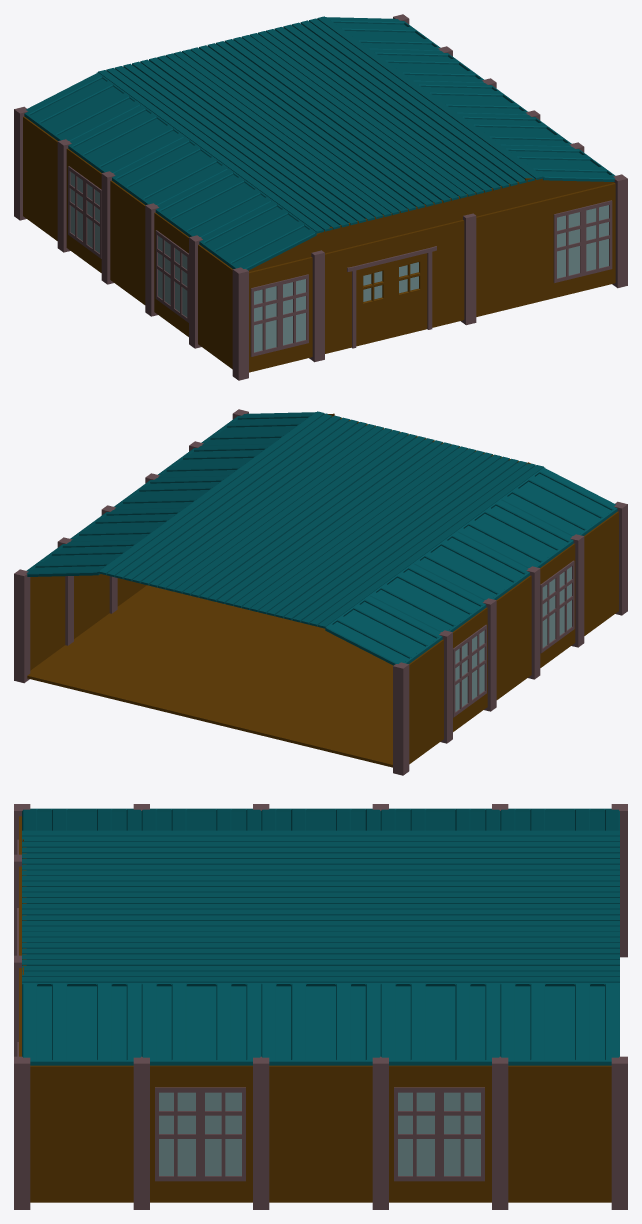
Rendered from Env_SherrifOffice.fbx.
3 renders of one model, top to bottom at view 1: azimuth 30°, elevation 25°; view 2: azimuth 150°, elevation 25°; view 3: azimuth 270°, elevation 25°, orthographic. The views are drawn at different scales.
Parts seen in each view (by area): view 1: Wall_Doorframe_Master_Copy2, Wall_Standard_Master_Copy17, pCube430, pCube427, pCube424, pCube425, pCube423, pCube426, pCube602, pCube601, Wall_Standard_Master_Copy22, Wall_Standard_Master_Copy21 (+25 smaller); view 2: pCube431, pCube423, pCube425, pCube426, pCube427, pCube424, Wall_Standard_Master_Copy22, Wall_Standard_Master_Copy23, Wall_Standard_Master_Copy21, Wall_Standard_Master_Copy20, pCube422, pCube19 (+16 smaller); view 3: Wall_Standard_Master_Copy18, Wall_Standard_Master_Copy19, Wall_Standard_Master_Copy20, pCube421, pCube419, pCube422, pCube418, pCube420, pCube604, pCube607, pCube606, pCube608 (+148 smaller).
Part boxes in pixels (bbox=[...]): Wall_Doorframe_Master_Copy2: bbox=[325, 220, 464, 353]; Wall_Standard_Master_Copy17: bbox=[476, 200, 544, 316]; pCube430: bbox=[325, 180, 528, 252]; pCube427: bbox=[199, 200, 316, 270]; pCube424: bbox=[68, 104, 184, 172]; pCube425: bbox=[112, 136, 228, 204]; pCube423: bbox=[24, 72, 141, 140]; pCube426: bbox=[155, 168, 272, 236]; pCube602: bbox=[553, 200, 612, 282]; pCube601: bbox=[250, 274, 308, 356]; Wall_Standard_Master_Copy22: bbox=[110, 180, 145, 304]; Wall_Standard_Master_Copy21: bbox=[198, 244, 232, 369]; pCube431: bbox=[27, 585, 393, 767]; pCube423: bbox=[325, 595, 442, 665]; pCube425: bbox=[413, 531, 529, 599]; pCube426: bbox=[457, 499, 573, 567]; pCube427: bbox=[500, 467, 617, 535]; pCube424: bbox=[369, 563, 486, 631]; Wall_Standard_Master_Copy22: bbox=[496, 575, 531, 699]; Wall_Standard_Master_Copy23: bbox=[409, 639, 443, 764]; Wall_Standard_Master_Copy21: bbox=[584, 511, 618, 635]; Wall_Standard_Master_Copy20: bbox=[30, 576, 65, 670]; pCube422: bbox=[26, 540, 141, 576]; pCube19: bbox=[540, 560, 574, 653]; Wall_Standard_Master_Copy18: bbox=[30, 1065, 133, 1201]; Wall_Standard_Master_Copy19: bbox=[269, 1065, 372, 1201]; Wall_Standard_Master_Copy20: bbox=[508, 1065, 611, 1201]; pCube421: bbox=[380, 982, 500, 1065]; pCube419: bbox=[141, 982, 261, 1065]; pCube422: bbox=[500, 982, 619, 1065]; pCube418: bbox=[22, 982, 141, 1065]; pCube420: bbox=[261, 982, 380, 1065]; pCube604: bbox=[155, 1087, 245, 1181]; pCube607: bbox=[394, 1087, 484, 1181]; pCube606: bbox=[150, 1065, 252, 1201]; pCube608: bbox=[389, 1065, 491, 1201].
Size of the model in its own units: 1027 by 325 by 1027.
